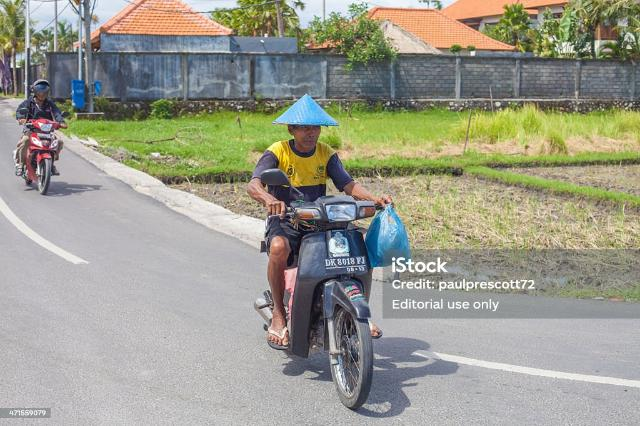helm: (35, 81, 51, 102)
motor: (254, 197, 394, 410), (18, 120, 64, 197)
non-helm: (273, 94, 340, 153)
